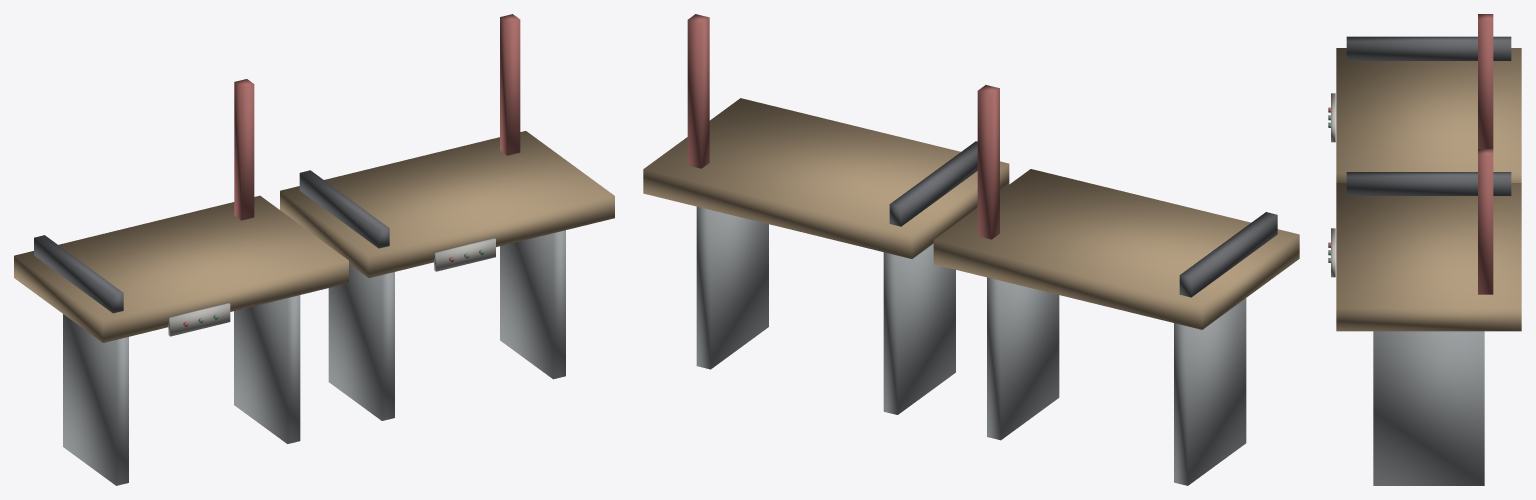
File: paper_cutter__cluster.glb
3 views of the same model, side by side, from view 1: azimuth 30°, elevation 25°; view 2: azimuth 150°, elevation 25°; view 3: azimuth 270°, elevation 25° (orthographic). The views are drawn at different scales.
Parts seen in each view (by area): view 1: world; view 2: world; view 3: world.
Part boxes in pixels (bbox=[...]): world: bbox=[14, 14, 614, 485]; world: bbox=[643, 14, 1299, 485]; world: bbox=[1328, 14, 1521, 485].
Bounding box in the file's own units: 2.39 × 1.42 × 0.751.
